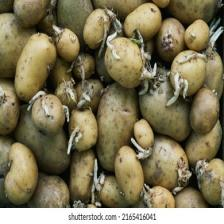Damaged potato: (10, 0, 48, 27)
Defected potato: (56, 0, 92, 34)
Potato: (7, 140, 36, 204)
Sprouted potato: (136, 59, 191, 142), (95, 78, 142, 174), (136, 131, 192, 193), (15, 30, 58, 105), (104, 30, 156, 89), (85, 162, 140, 208), (115, 141, 147, 204), (66, 98, 100, 154), (70, 148, 102, 207), (170, 49, 208, 98), (30, 88, 65, 141), (150, 13, 188, 59), (123, 2, 162, 45), (194, 157, 224, 203), (85, 5, 114, 50), (48, 21, 78, 62), (131, 116, 155, 160), (184, 16, 211, 54), (71, 77, 103, 108), (71, 49, 92, 78), (56, 79, 75, 111)
